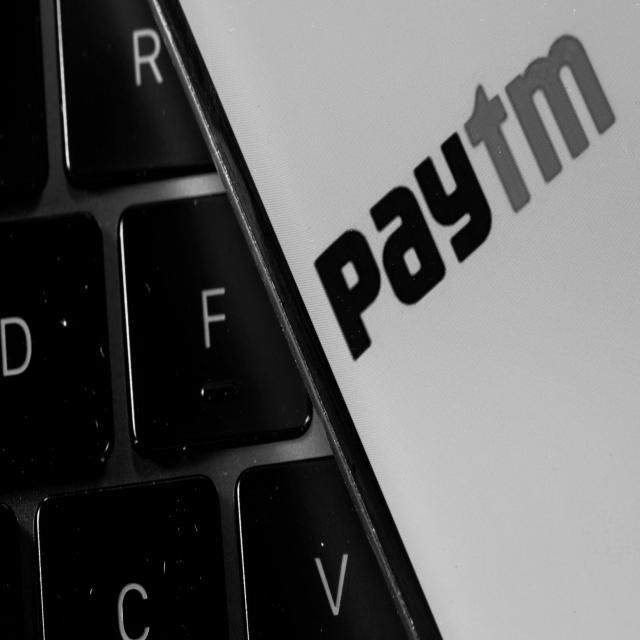fully_visible: (297, 21, 620, 372)
